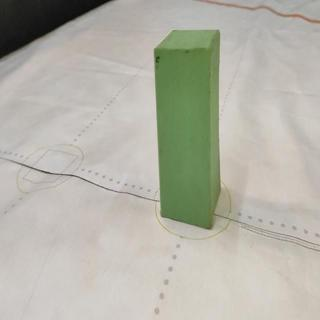greenbox: (153, 29, 224, 229)
